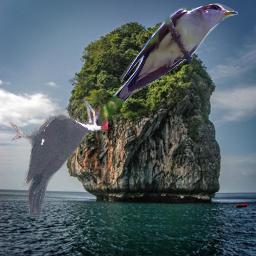Cuckoo: (95, 3, 238, 126)
Woodpecker: (8, 99, 111, 218)
